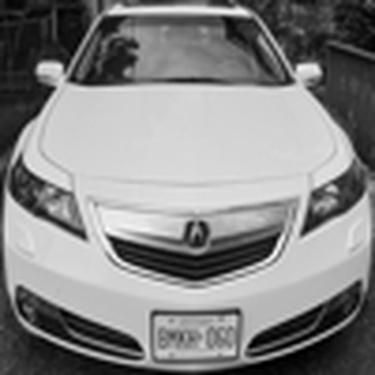car: (10, 8, 369, 358)
